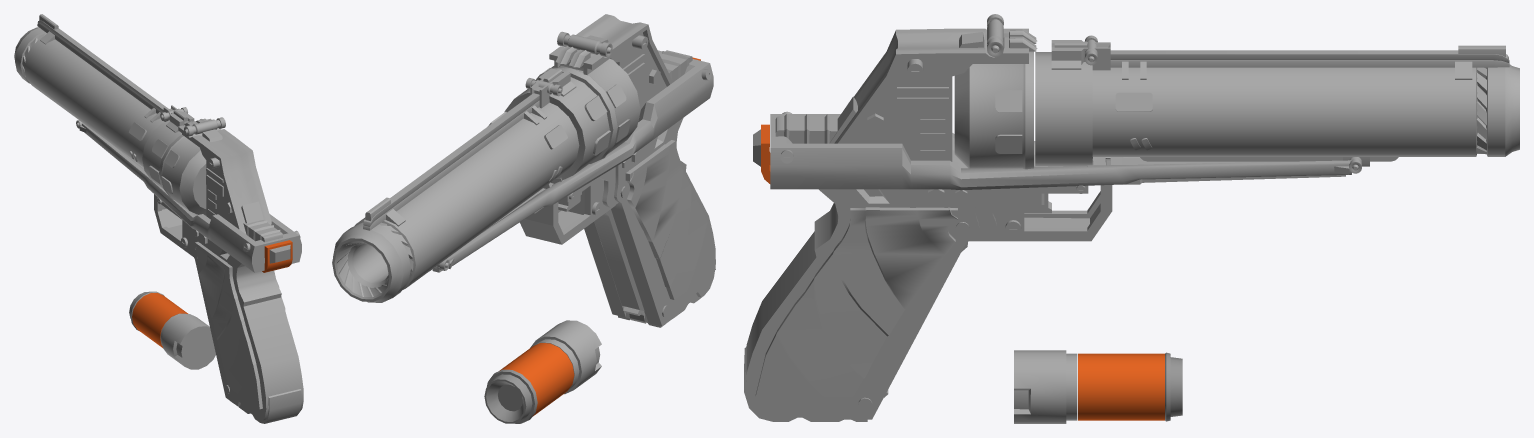
File: Flaregun.fbx
3 renders of one model, left to right at view 1: azimuth 30°, elevation 25°; view 2: azimuth 150°, elevation 25°; view 3: azimuth 270°, elevation 25°, orthographic. The views are drawn at different scales.
Parts seen in each view (by area): view 1: polySurface1, polySurface65, polySurface62, polySurface69, polySurface45, polySurface44, polySurface28, polySurface27, polySurface12, polySurface29, polySurface41, polySurface70 (+5 smaller); view 2: polySurface1, polySurface65, polySurface62, polySurface45, polySurface27, polySurface69, polySurface12, polySurface18, polySurface44, polySurface41, polySurface28, polySurface23 (+6 smaller); view 3: polySurface1, polySurface38, polySurface45, polySurface65, polySurface69, polySurface44, polySurface27, polySurface12, polySurface28, polySurface41, polySurface18, polySurface79 (+9 smaller).
Boxes of the visible parts, <box> form: polySurface1: <box>24,37,181,188</box>; polySurface65: <box>191,229,303,421</box>; polySurface62: <box>195,242,262,409</box>; polySurface69: <box>178,118,271,234</box>; polySurface45: <box>82,123,301,272</box>; polySurface44: <box>159,135,206,215</box>; polySurface28: <box>160,313,215,369</box>; polySurface27: <box>129,291,188,347</box>; polySurface12: <box>37,20,168,113</box>; polySurface29: <box>230,389,301,423</box>; polySurface41: <box>154,194,193,256</box>; polySurface70: <box>262,240,292,272</box>; polySurface1: <box>347,77,609,289</box>; polySurface65: <box>584,118,715,326</box>; polySurface62: <box>625,140,715,299</box>; polySurface45: <box>434,50,713,270</box>; polySurface27: <box>484,343,574,423</box>; polySurface69: <box>549,14,673,122</box>; polySurface12: <box>363,93,539,230</box>; polySurface18: <box>332,222,410,302</box>; polySurface44: <box>535,59,640,163</box>; polySurface41: <box>520,179,615,244</box>; polySurface28: <box>530,320,601,394</box>; polySurface23: <box>337,242,388,297</box>; polySurface1: <box>1035,52,1477,165</box>; polySurface38: <box>755,207,957,397</box>; polySurface45: <box>770,114,1351,190</box>; polySurface65: <box>745,189,979,419</box>; polySurface69: <box>834,28,1028,161</box>; polySurface44: <box>954,51,1033,169</box>; polySurface27: <box>1078,352,1182,421</box>; polySurface12: <box>1110,50,1509,67</box>; polySurface28: <box>1014,350,1077,423</box>; polySurface41: <box>967,185,1112,241</box>; polySurface18: <box>1486,64,1519,156</box>; polySurface79: <box>775,114,838,143</box>.
Size of the model in its own units: 0.1697 by 0.5852 by 1.05.
